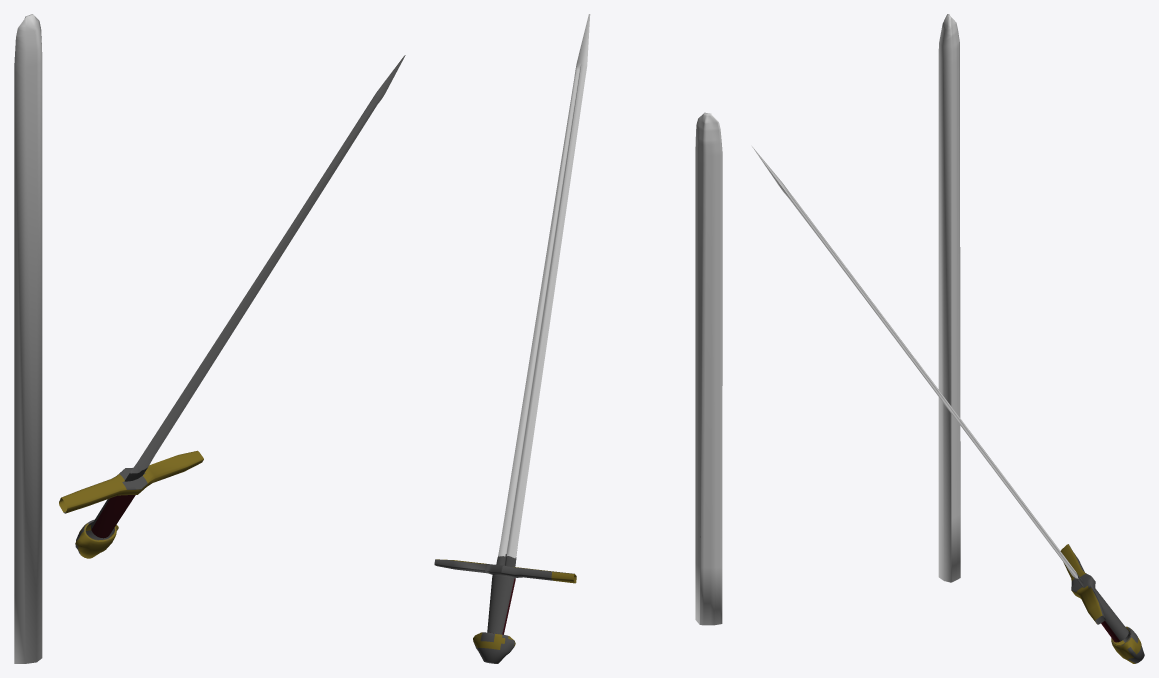
The model's file is sword.obj.
The picture shows the model from 3 angles, left to right: view 1: azimuth 30°, elevation 25°; view 2: azimuth 150°, elevation 25°; view 3: azimuth 270°, elevation 25°; orthographic projection. The views are drawn at different scales.
Parts seen in each view (by area): view 1: Cube_Cube.001, Mesh_(2)_Mesh; view 2: Cube_Cube.001, Mesh_(2)_Mesh; view 3: Cube_Cube.001, Mesh_(2)_Mesh.
Part boxes in pixels (<box>): Cube_Cube.001: <box>14,14,42,663</box>; Mesh_(2)_Mesh: <box>59,55,405,558</box>; Cube_Cube.001: <box>695,112,722,625</box>; Mesh_(2)_Mesh: <box>434,14,590,663</box>; Cube_Cube.001: <box>938,14,960,582</box>; Mesh_(2)_Mesh: <box>752,146,1144,663</box>.
Bounding box in the file's own units: 6.97 × 15.67 × 9.7.
